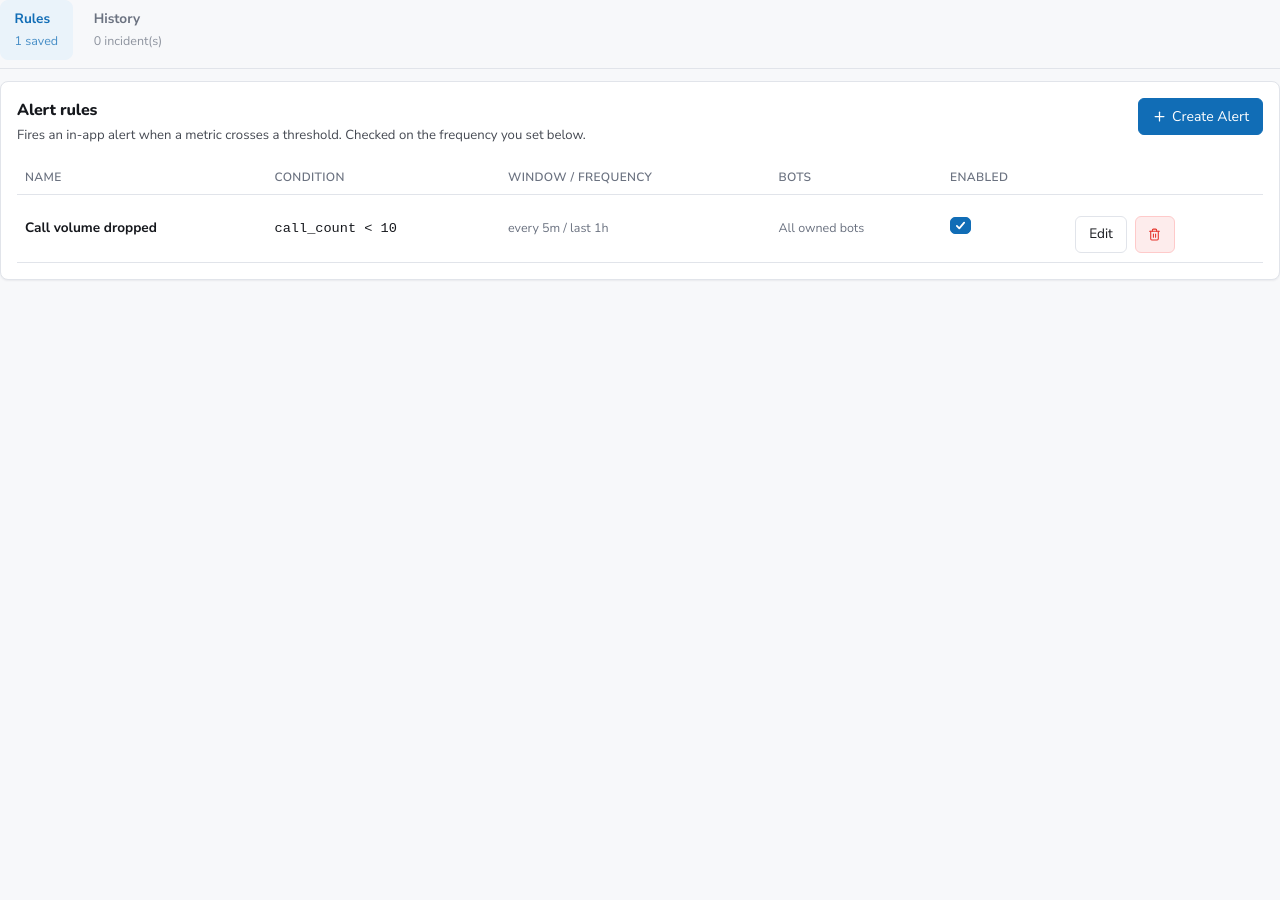
Test: AlertsPanel edit round-trip › submits updateAlertRule with the rule id and the changed field
Step 1. Click the text "Call volume dropped" → (91, 228), box [25,218,157,237]
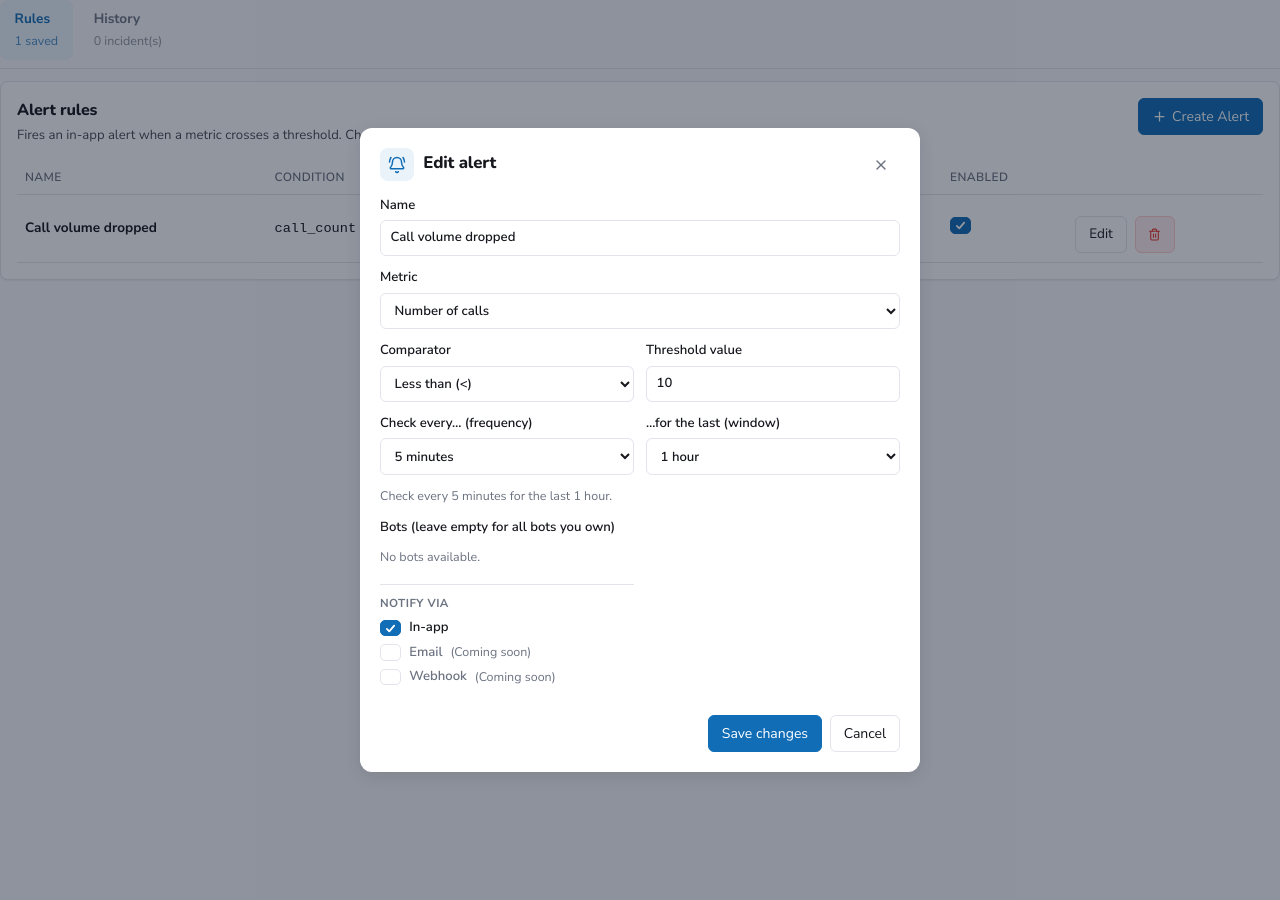
Step 2. Replace the text in the field with placeholder "e.g. Call volume dropped" with "Renamed rule" → (640, 238), box [380,220,900,256]
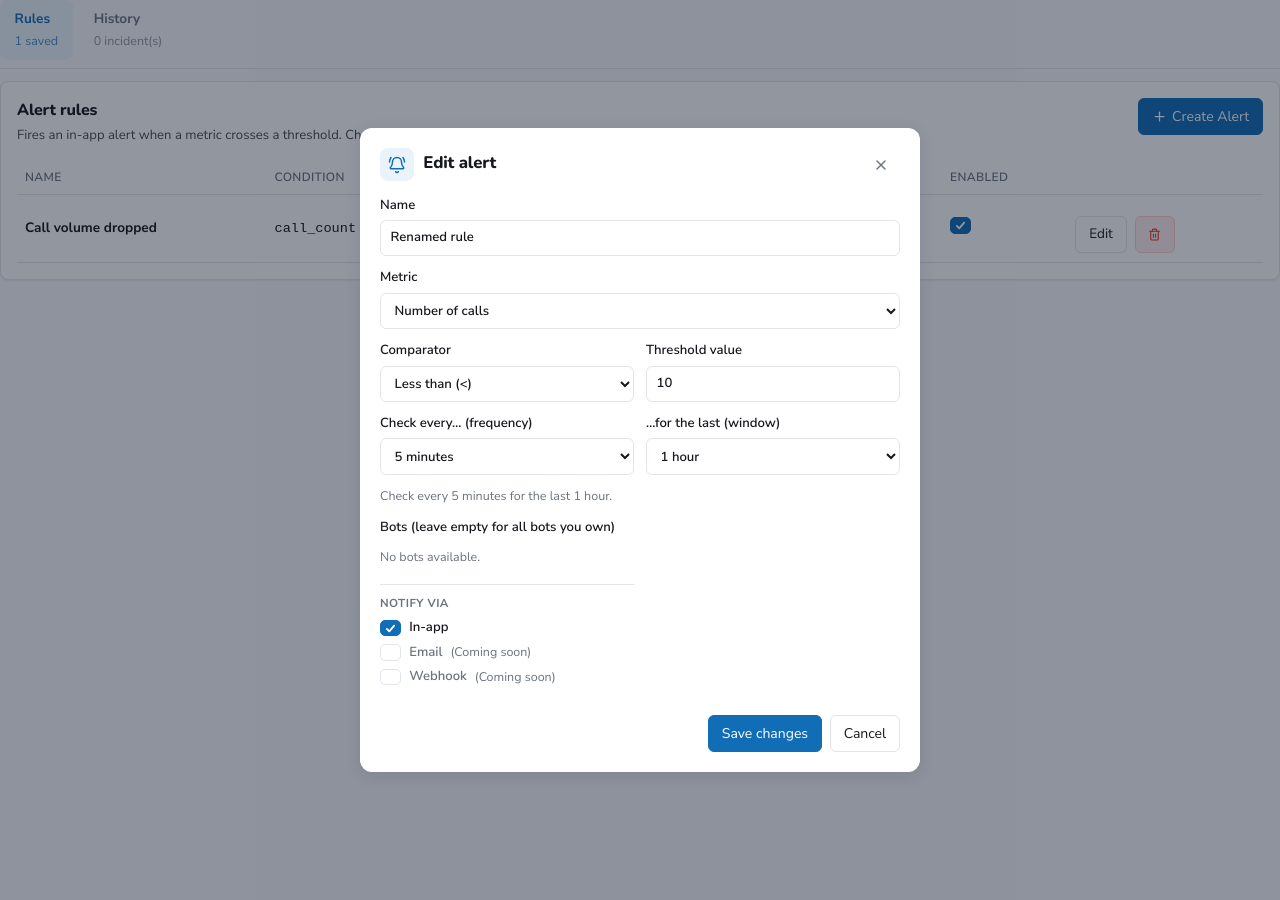
Step 3. Click the button "Save changes" → (765, 734), box [708,715,822,752]
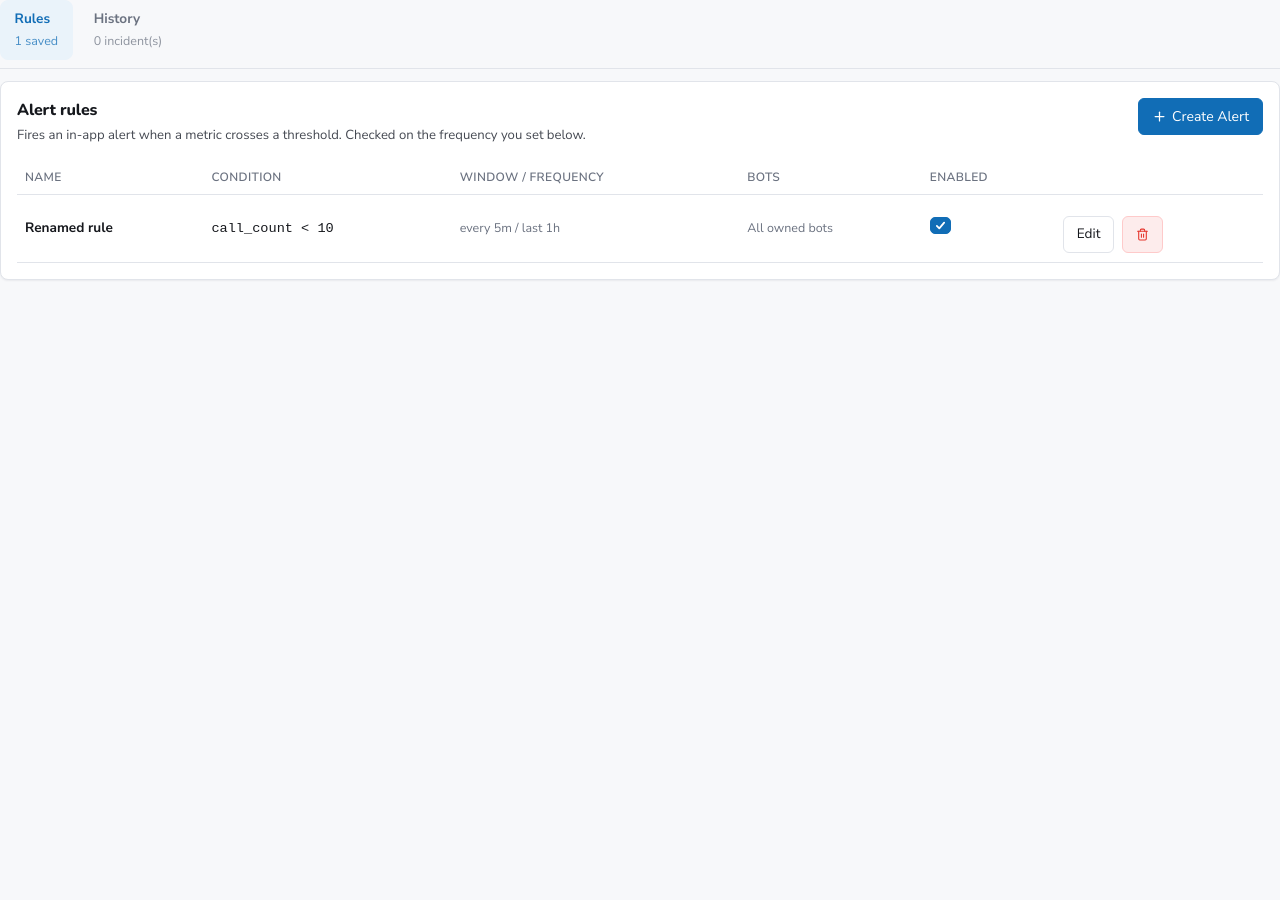
Expected: the text "Renamed rule" is shown, [25,218,113,237]
